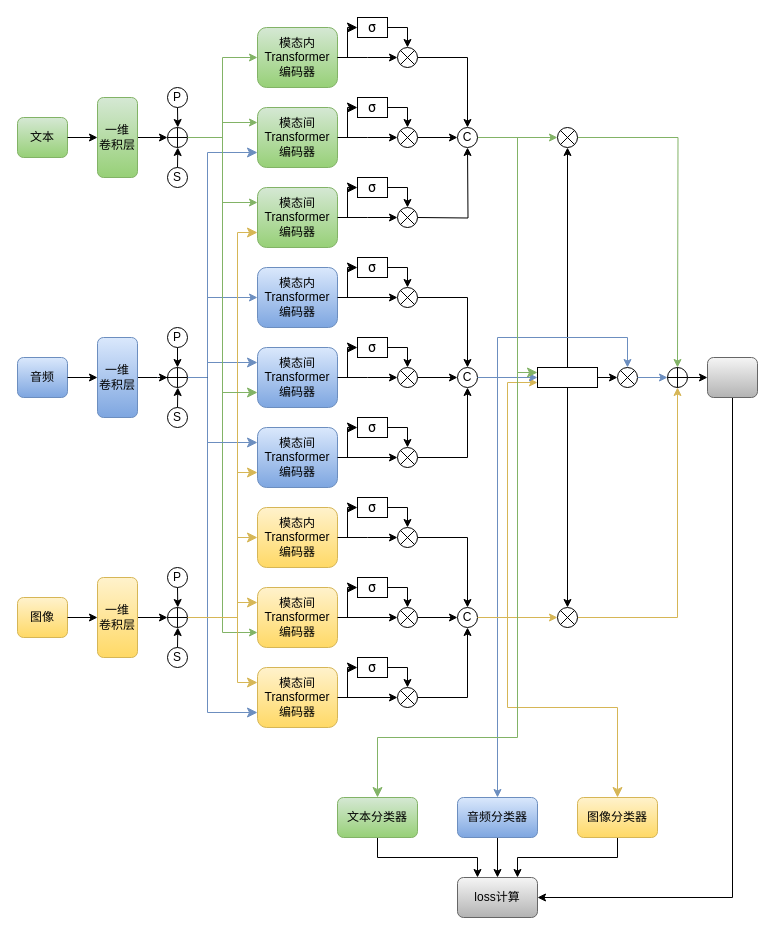
This 775x935 diagram has some shape labels left out. The centre of each missing label's shape, as x and y in pixels:
"softmax" goes at (567,377).
"分类器" goes at (732,377).
